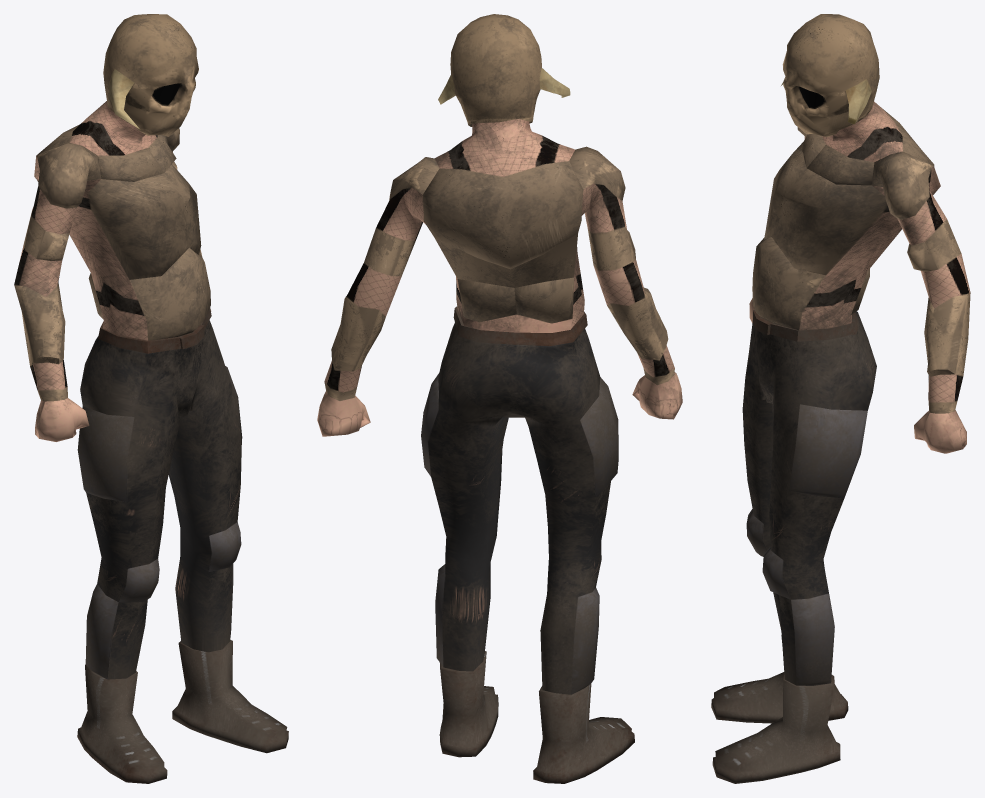
File: Anim_recibirdanyo_npc1.0031.obj
The picture shows the model from 3 angles, left to right: view 1: azimuth 30°, elevation 25°; view 2: azimuth 150°, elevation 25°; view 3: azimuth 270°, elevation 25°; orthographic projection. The views are drawn at different scales.
Parts seen in each view (by area): view 1: NPC2; view 2: NPC2; view 3: NPC2.
Part boxes in pixels (<box>): NPC2: <box>14,14,288,783</box>; NPC2: <box>317,14,682,783</box>; NPC2: <box>711,14,970,783</box>.
Bounding box in the file's own units: 3.55 × 9.47 × 3.08.
